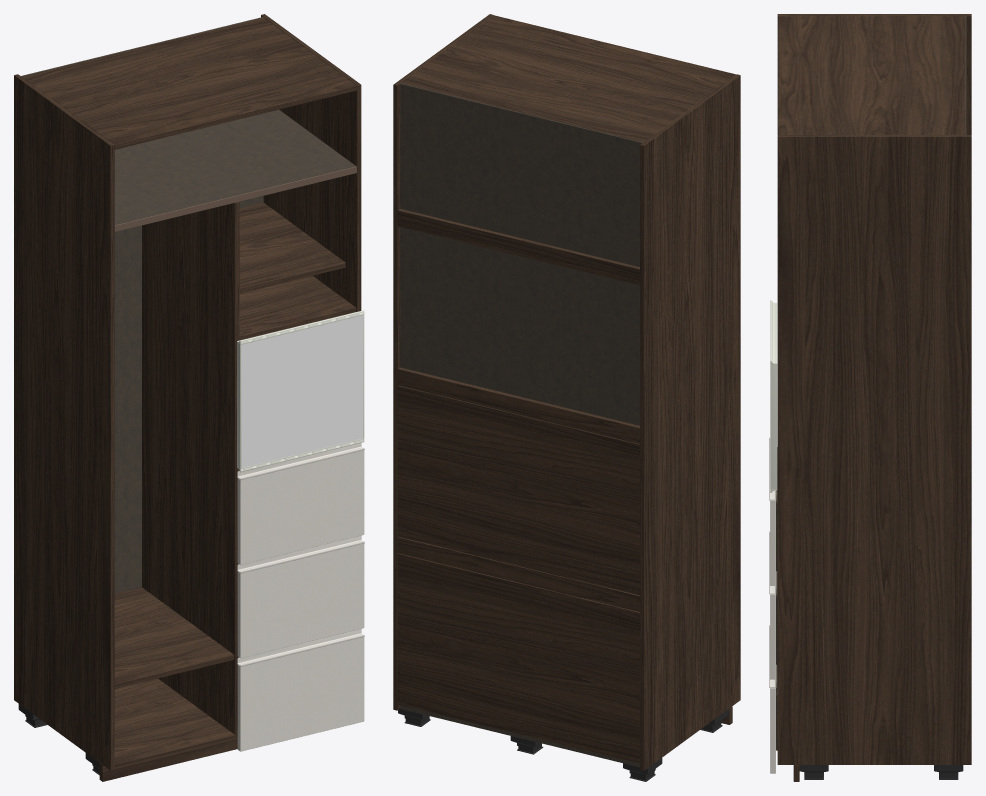
The picture shows the model from 3 angles, left to right: view 1: azimuth 30°, elevation 25°; view 2: azimuth 150°, elevation 25°; view 3: azimuth 270°, elevation 25°; orthographic projection.
Parts seen in each view (by area): view 1: HK1001286, LIFTUP_01; view 2: HK1001286; view 3: HK1001286, LIFTUP_01.
Part boxes in pixels (x1,y1,x2,y2): HK1001286: [14, 14, 364, 781]; LIFTUP_01: [237, 310, 364, 472]; HK1001286: [393, 14, 740, 781]; HK1001286: [769, 14, 971, 781]; LIFTUP_01: [770, 300, 777, 492].
Bounding box in the file's own units: 0.9 × 2.2 × 0.6256.
Materials: 11 (7 with a texture image).
